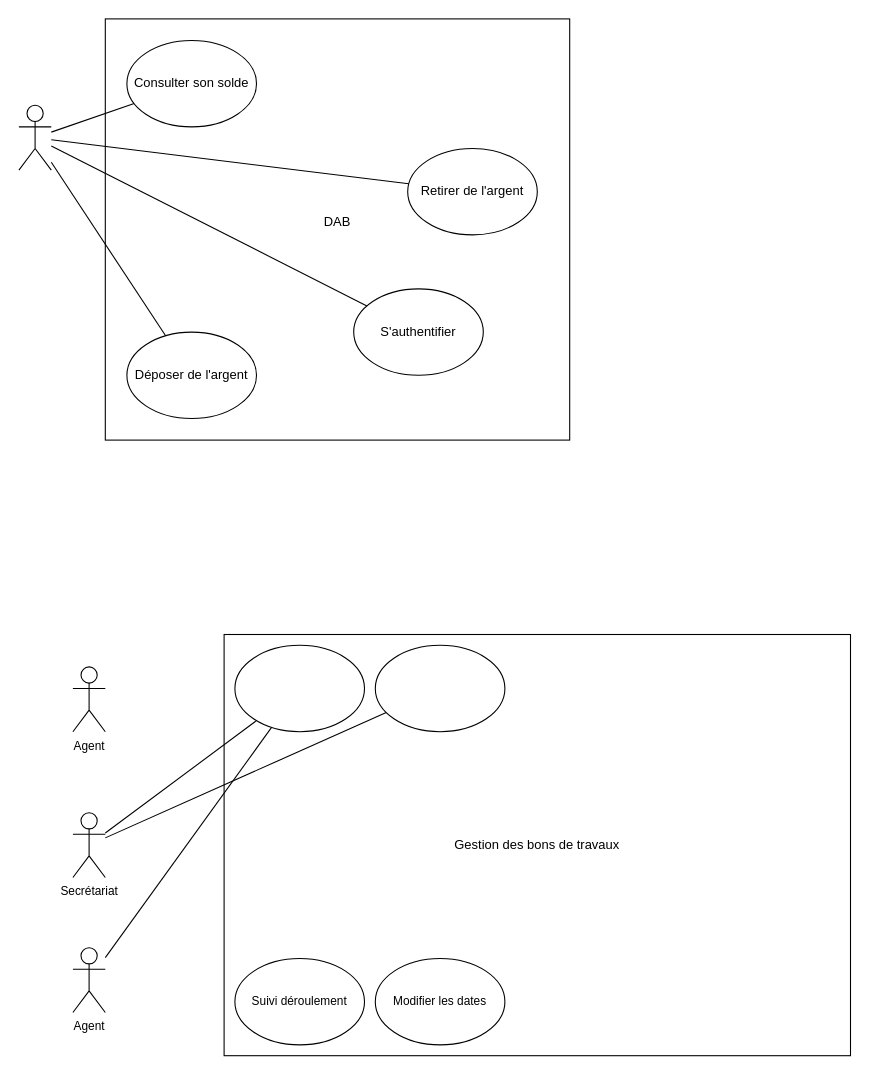
The diagram is 869 pixels wide and 1075 high, and some of its shapes have lost their labels. The centre of each missing label's shape, as x and y in pixels:
Bon de travaux: (299,688)
client: (34,137)
Interventions: (439,688)
